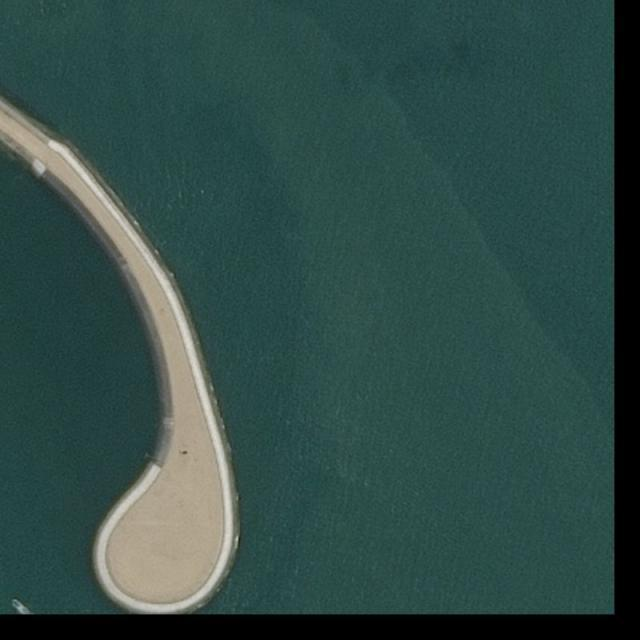ship: (11, 599, 22, 610)
